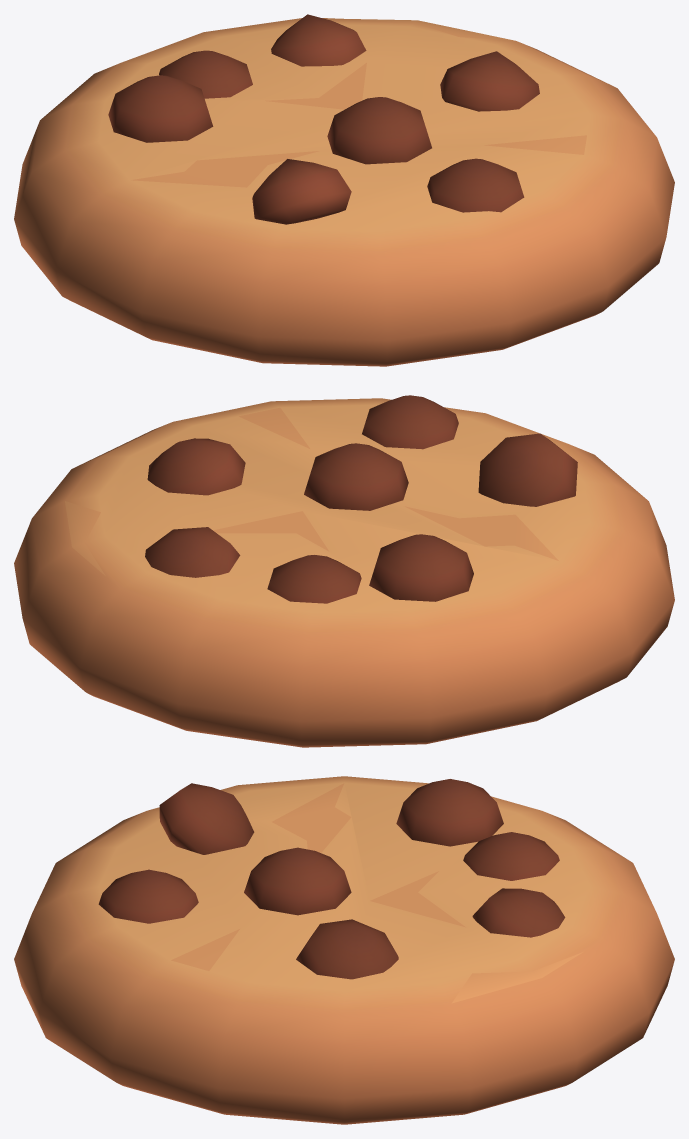
File: Cookie_V1_00.fbx
3 renders of one model, top to bottom at view 1: azimuth 30°, elevation 25°; view 2: azimuth 150°, elevation 25°; view 3: azimuth 270°, elevation 25°, orthographic.
Visible parts, largest first — view 1: Cookie_V1_00; view 2: Cookie_V1_00; view 3: Cookie_V1_00.
Part boxes in pixels (x1,y1,x2,y2): Cookie_V1_00: (14,14,674,366); Cookie_V1_00: (14,395,674,747); Cookie_V1_00: (14,776,674,1124).
Bounding box in the file's own units: 31.75 × 8.24 × 31.75.
